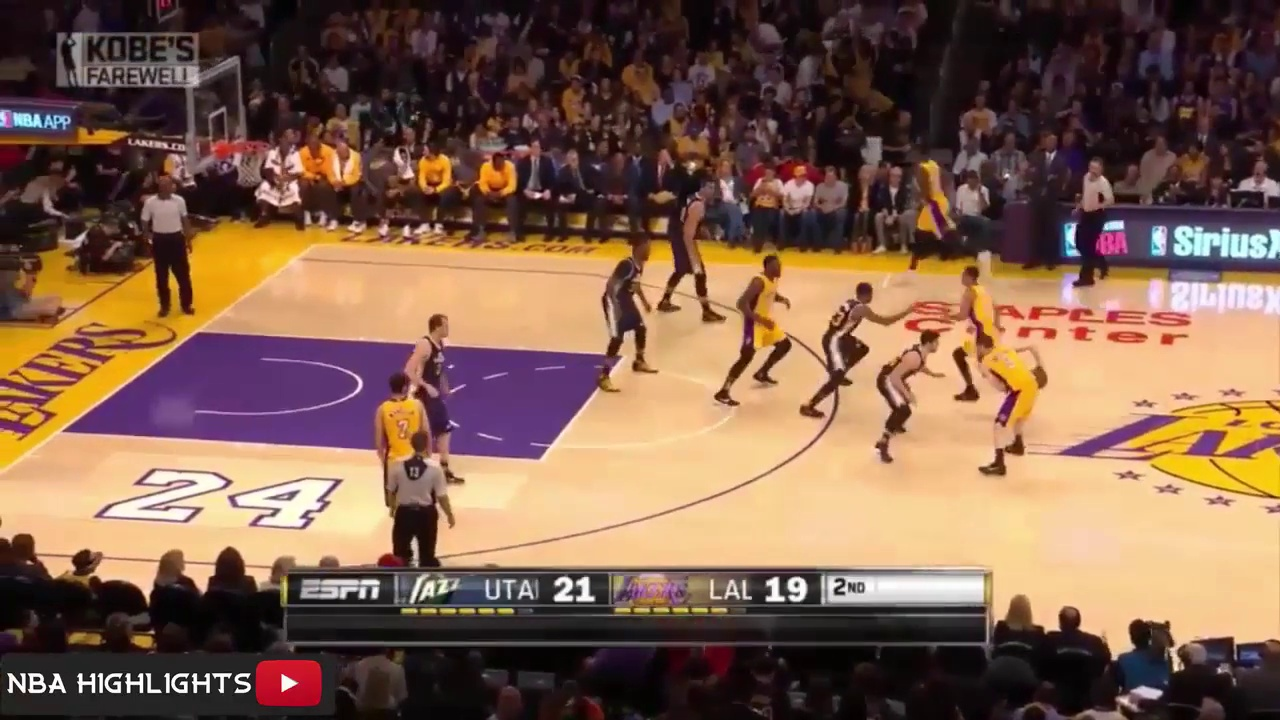jazz: (798, 281, 874, 416), (592, 237, 656, 393), (412, 311, 467, 487), (874, 329, 946, 463), (661, 180, 728, 323)
lakers: (712, 251, 788, 404), (895, 146, 973, 281), (977, 336, 1049, 475), (376, 370, 428, 487), (952, 261, 991, 399)
